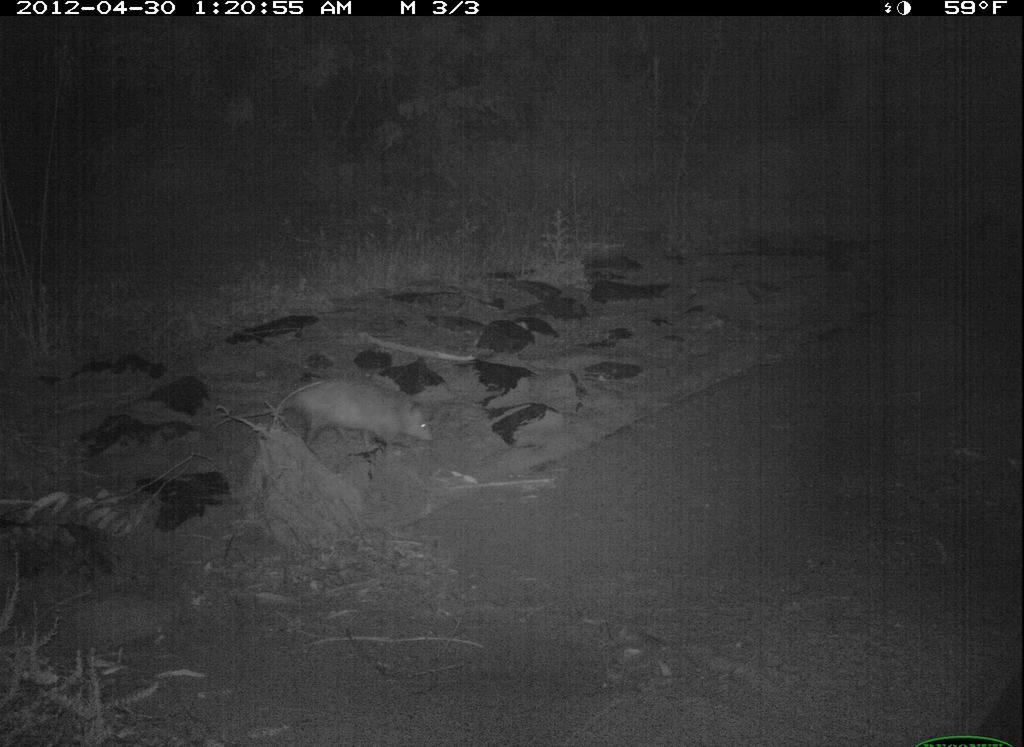opossum: (225, 370, 438, 466)
